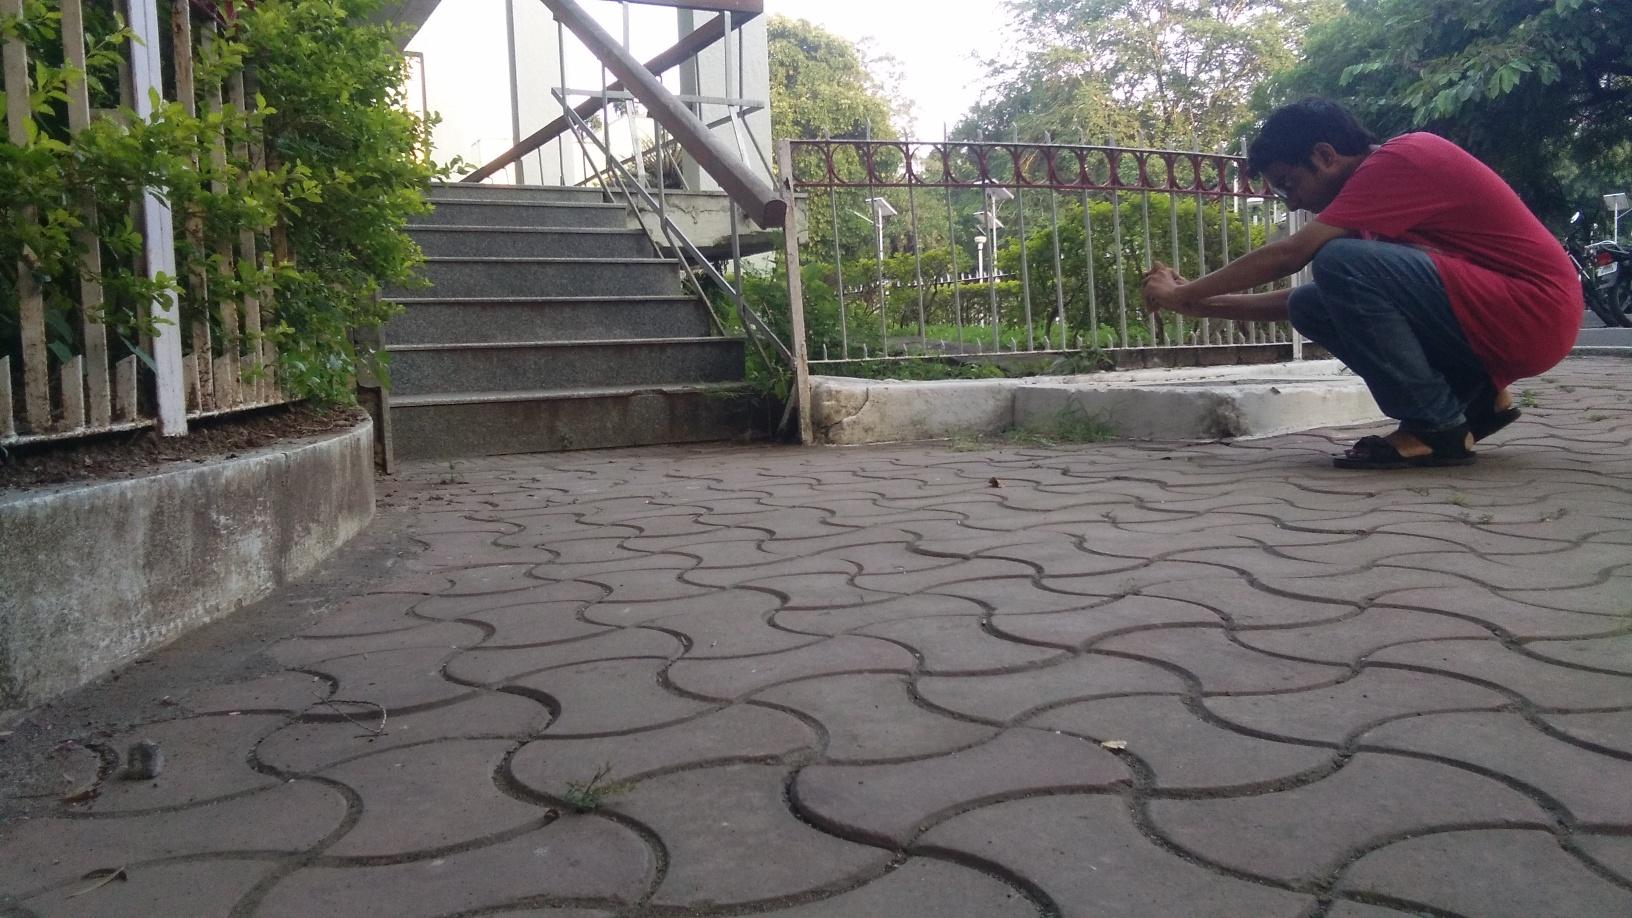Bench: (316, 95, 826, 442)
